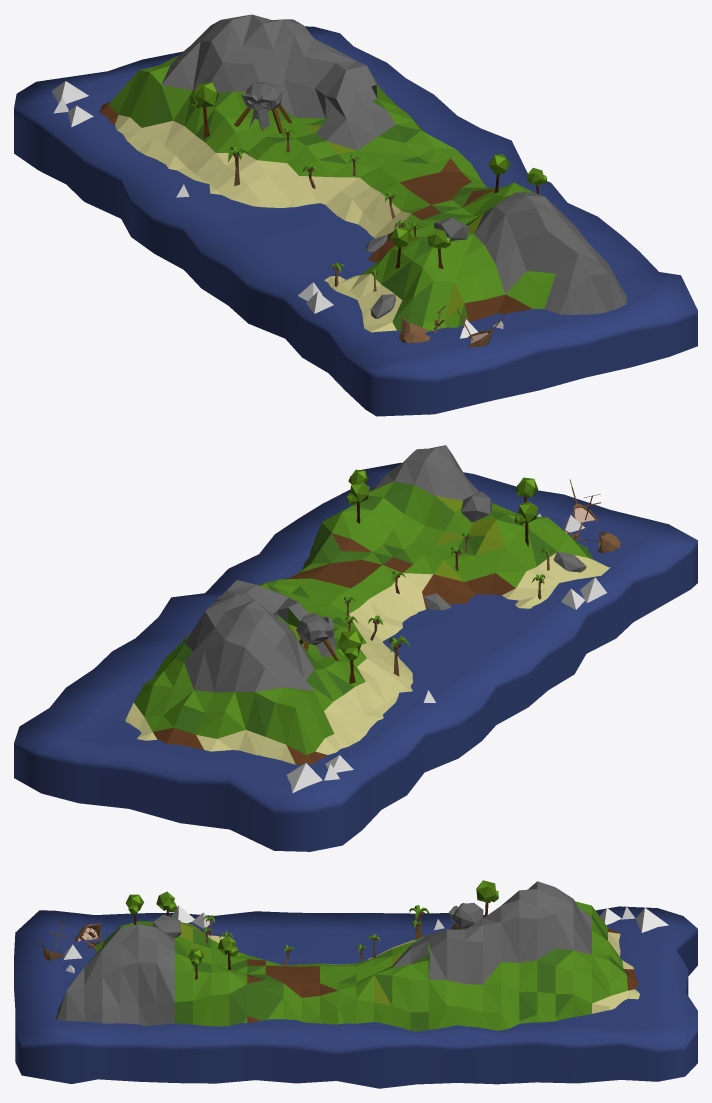
Rendered from TD_Model_PirateCoveIslandColl.fbx.
The picture shows the model from 3 angles, top to bottom: view 1: azimuth 30°, elevation 25°; view 2: azimuth 150°, elevation 25°; view 3: azimuth 270°, elevation 25°; orthographic projection. The views are drawn at different scales.
Visible parts, largest first — view 1: M_PirateCove_Water, M_PirateCove_Island_Var1, M_Deco_SuzanneSkull.001, M_Veg_Tree_3, TheBlackLady_Mesh.001; view 2: M_PirateCove_Water, M_PirateCove_Island_Var1, M_Deco_SuzanneSkull.001, M_Veg_Rocks_L_3, M_Veg_Tree_3; view 3: M_PirateCove_Water, M_PirateCove_Island_Var1, M_Deco_SuzanneSkull.001, TheBlackLady_Mesh.001, M_Veg_Tree_3, M_Veg_Rocks_L_3, M_IslandRocks.011, M_Veg_Tree.001.
Boxes of the visible parts, bbox=[...] form: M_PirateCove_Water: bbox=[14, 26, 697, 416]; M_PirateCove_Island_Var1: bbox=[99, 14, 626, 332]; M_Deco_SuzanneSkull.001: bbox=[234, 82, 291, 133]; M_Veg_Tree_3: bbox=[189, 82, 218, 137]; TheBlackLady_Mesh.001: bbox=[399, 305, 449, 343]; M_PirateCove_Water: bbox=[14, 463, 697, 851]; M_PirateCove_Island_Var1: bbox=[125, 445, 610, 764]; M_Deco_SuzanneSkull.001: bbox=[296, 612, 338, 660]; M_Veg_Rocks_L_3: bbox=[461, 491, 492, 522]; M_Veg_Tree_3: bbox=[338, 630, 362, 683]; M_PirateCove_Water: bbox=[14, 906, 697, 1088]; M_PirateCove_Island_Var1: bbox=[56, 881, 639, 1031]; M_Deco_SuzanneSkull.001: bbox=[448, 902, 483, 929]; TheBlackLady_Mesh.001: bbox=[75, 923, 104, 954]; M_Veg_Tree_3: bbox=[476, 880, 498, 916]; M_Veg_Rocks_L_3: bbox=[153, 914, 180, 938]; M_IslandRocks.011: bbox=[636, 908, 668, 932]; M_Veg_Tree.001: bbox=[217, 936, 238, 970].
Bounding box in the file's own units: 116 × 49.96 × 239.
